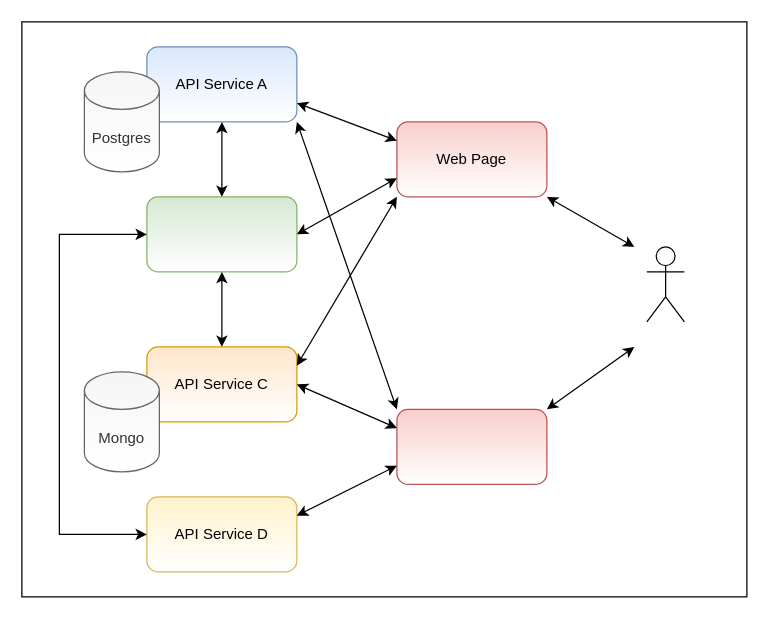
Image size: 769x619. Some labels were removed from this diagram. Each missing label, with the box of its shape:
Actor: (646, 246, 684, 322)
Android App: (396, 408, 547, 484)
API Service B: (146, 196, 297, 272)
